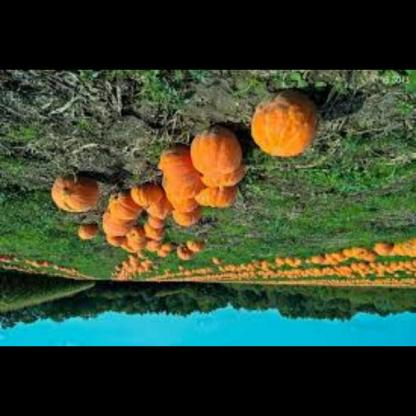pumpkin: (214, 236, 415, 288), (244, 92, 325, 160), (107, 235, 202, 289), (189, 121, 245, 181), (47, 168, 112, 217), (81, 197, 139, 250), (132, 178, 192, 228), (193, 167, 245, 223), (160, 144, 205, 194)
